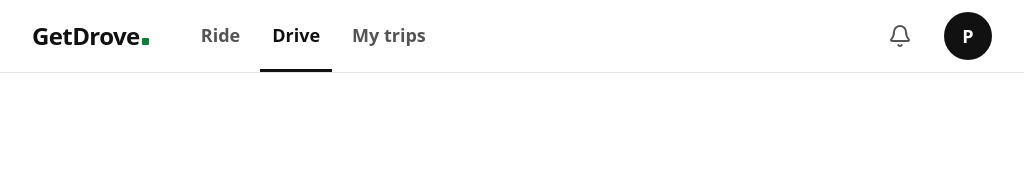
it: AppHeader › closes the account menu when clicking elsewhere
The width and height of the screenshot is (1024, 180).
Click the button named "Account": [968, 36] box [944, 12, 992, 60]
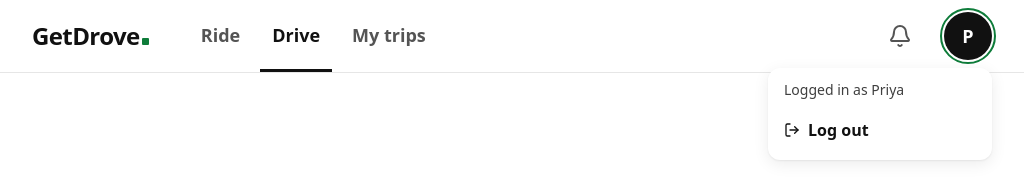
Expected: the menu is shown, [768, 68, 992, 160]
Click the element showing "GetDrove Ride Drive My trips P Logged in as Priya Log out": [512, 36] box [0, 0, 1023, 73]
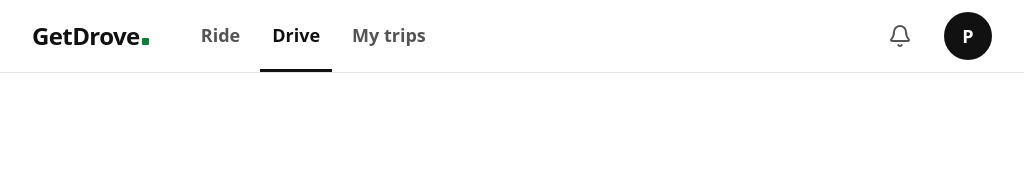
Expected: the menu is gone
